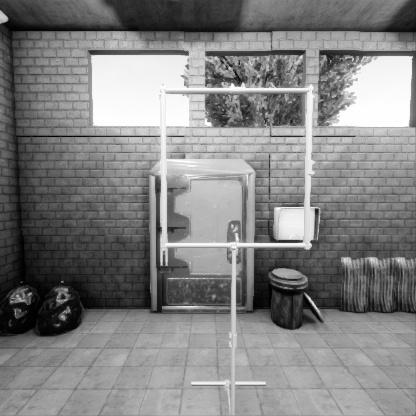gate: (157, 173, 324, 338)
